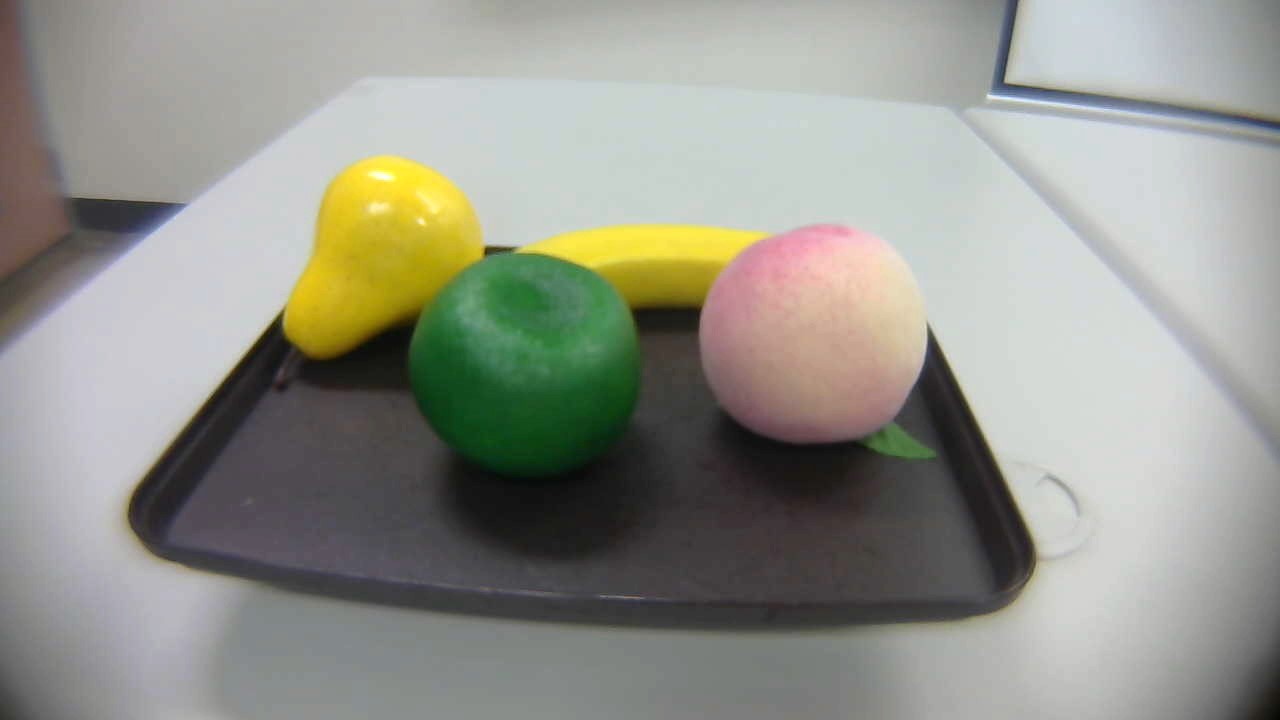banana: (500, 215, 790, 334)
green orange: (403, 252, 642, 483)
peach: (700, 222, 956, 476)
yellow pear: (251, 151, 486, 388)
